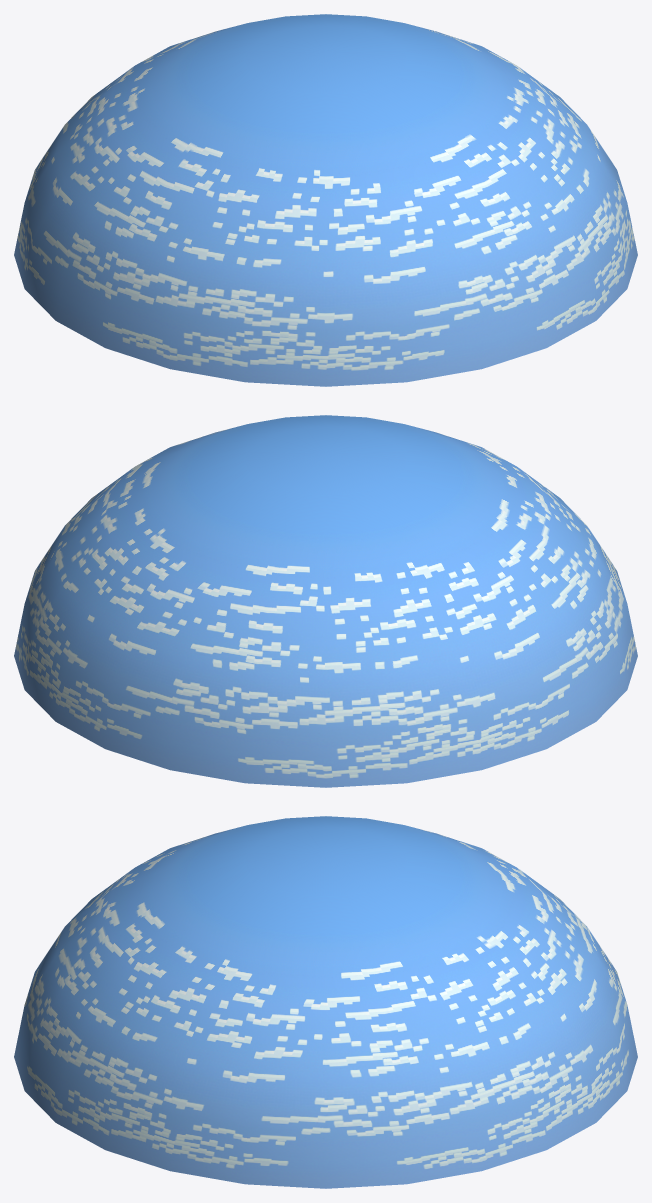
Rendered from sky_02 #855058.fbx.
The picture shows the model from 3 angles, top to bottom: view 1: azimuth 30°, elevation 25°; view 2: azimuth 150°, elevation 25°; view 3: azimuth 270°, elevation 25°; orthographic projection.
Visible parts, largest first — view 1: sky_02; view 2: sky_02; view 3: sky_02.
Part boxes in pixels (x1,y1,x2,y2): sky_02: (14,14,637,386); sky_02: (14,415,637,787); sky_02: (14,816,637,1188).
Bounding box in the file's own units: 4212 × 1504 × 4212.
